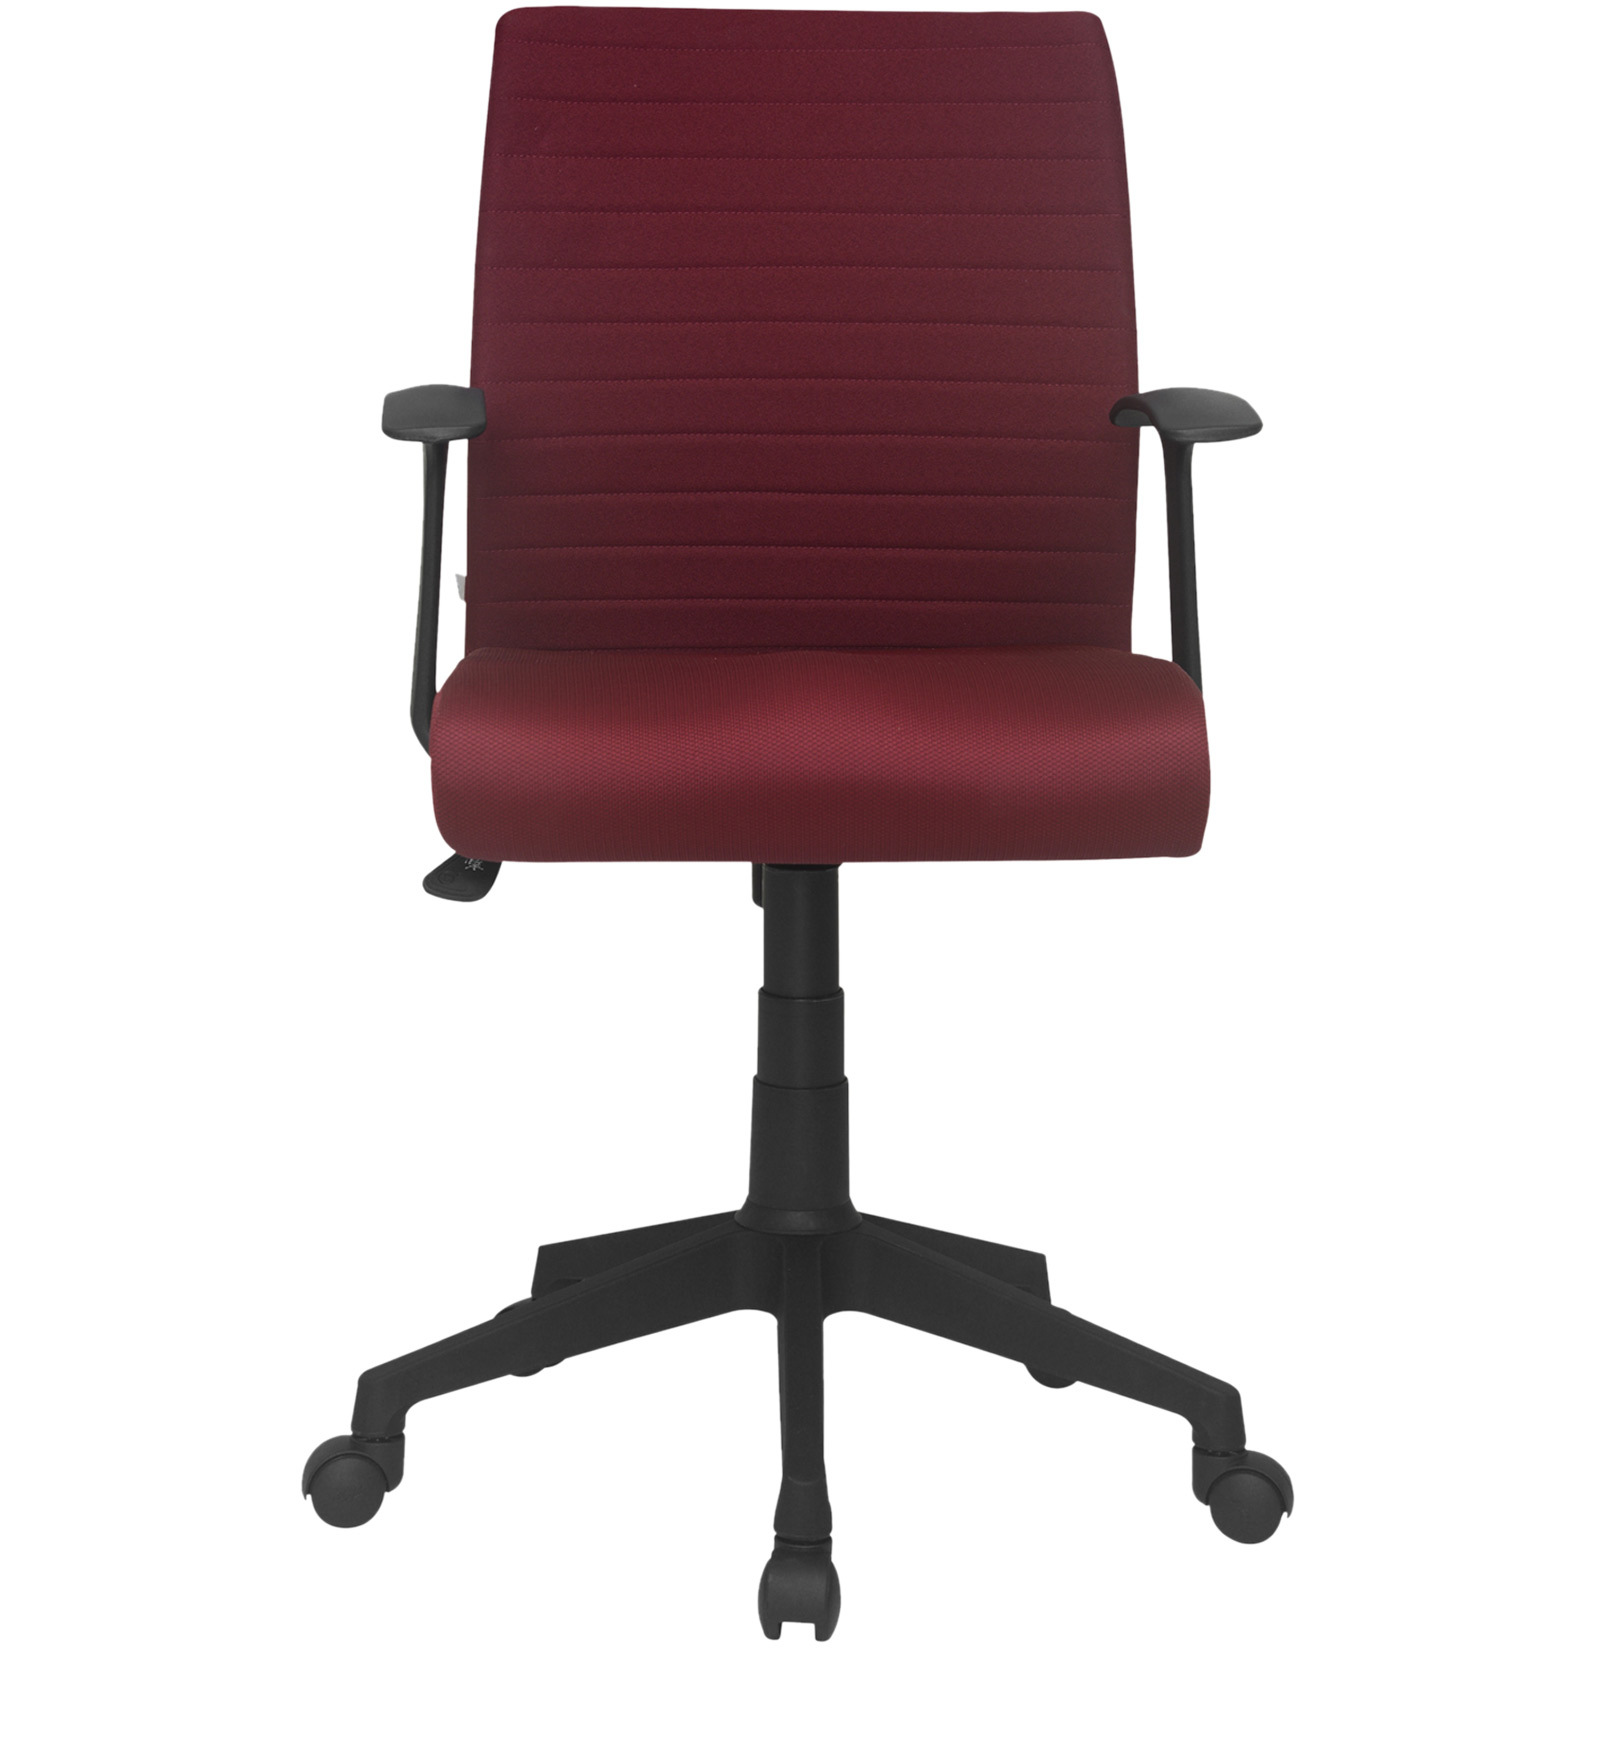Thames Low Back Ergonomic Chair in Maroon Colour by Nilkamal: (241, 18, 1422, 1693)
